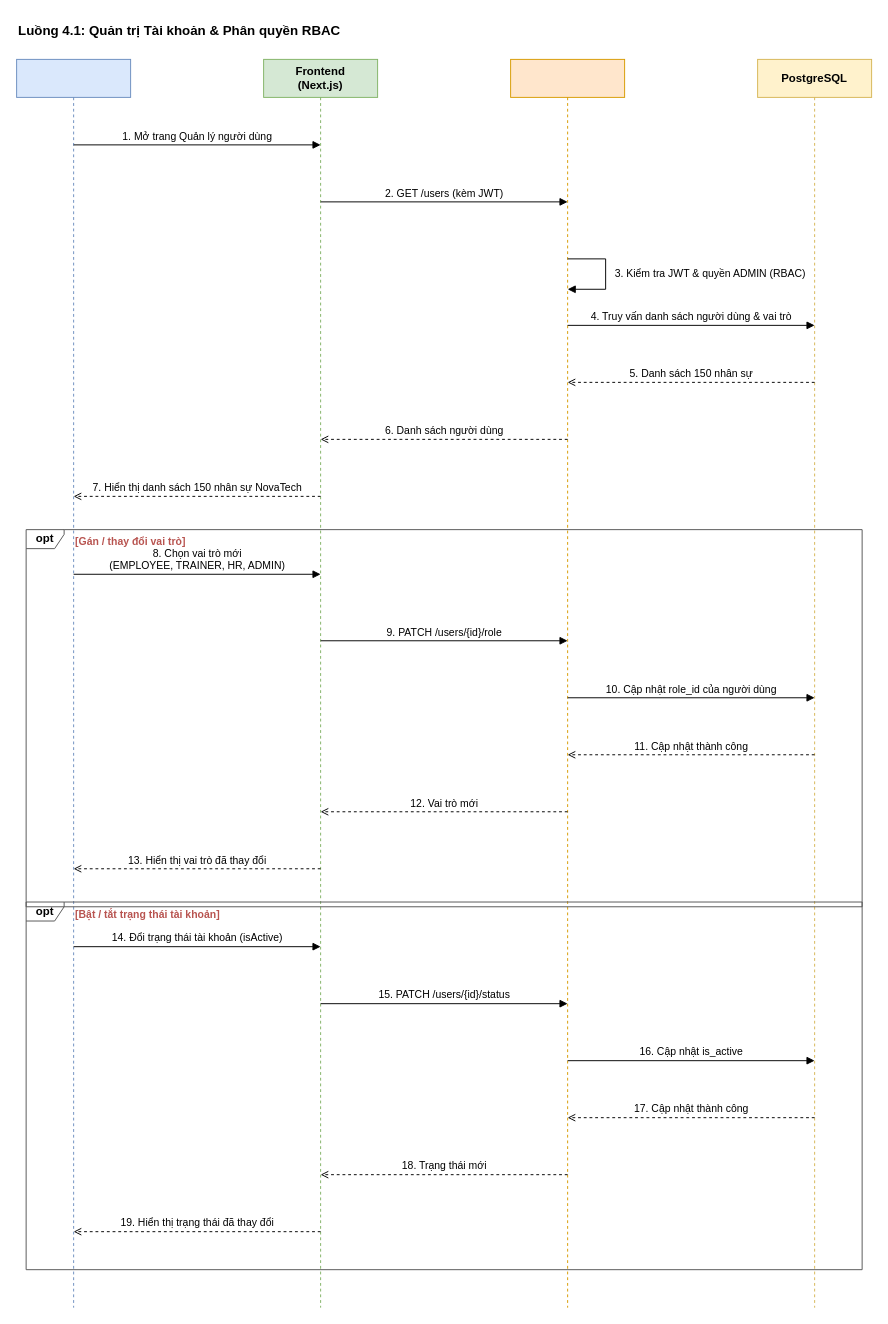
The diagram is 888 pixels wide and 1324 high, and some of its shapes have lost their labels. Each missing label, with the box of its shape:
Backend (NestJS): (510, 58, 625, 1308)
System Admin (Quản trị hệ thống): (16, 58, 131, 1308)
